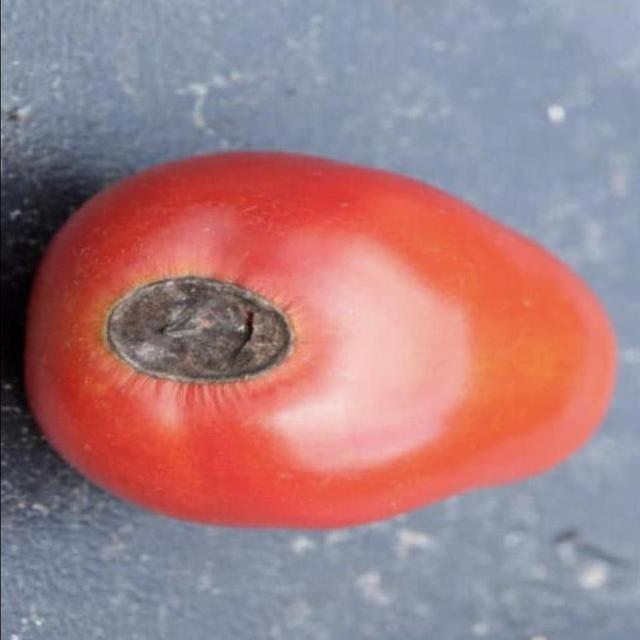Blossom End Rot Fruit: (70, 185, 203, 260)
